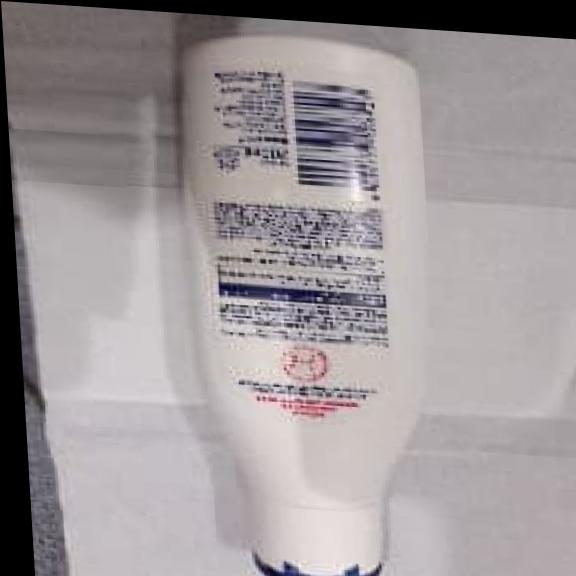Plastik: (164, 28, 448, 576)
